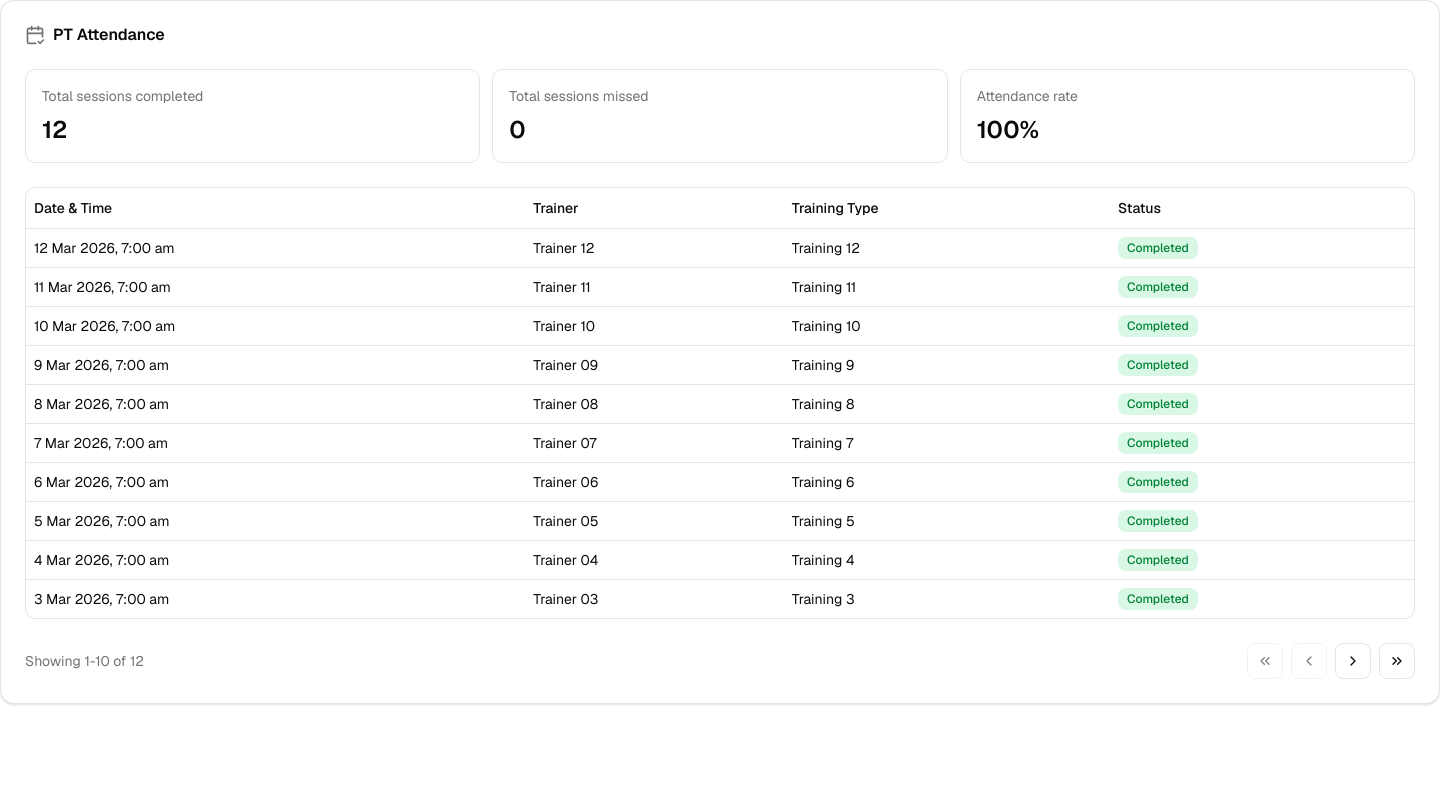
Test case: MemberPtAttendance › paginates PT attendance results 10 at a time
Expected: the text "Trainer 01" is not shown
Click the button named "Go to next page".
click(1353, 660)  # box left=1335, top=642, right=1371, bottom=678
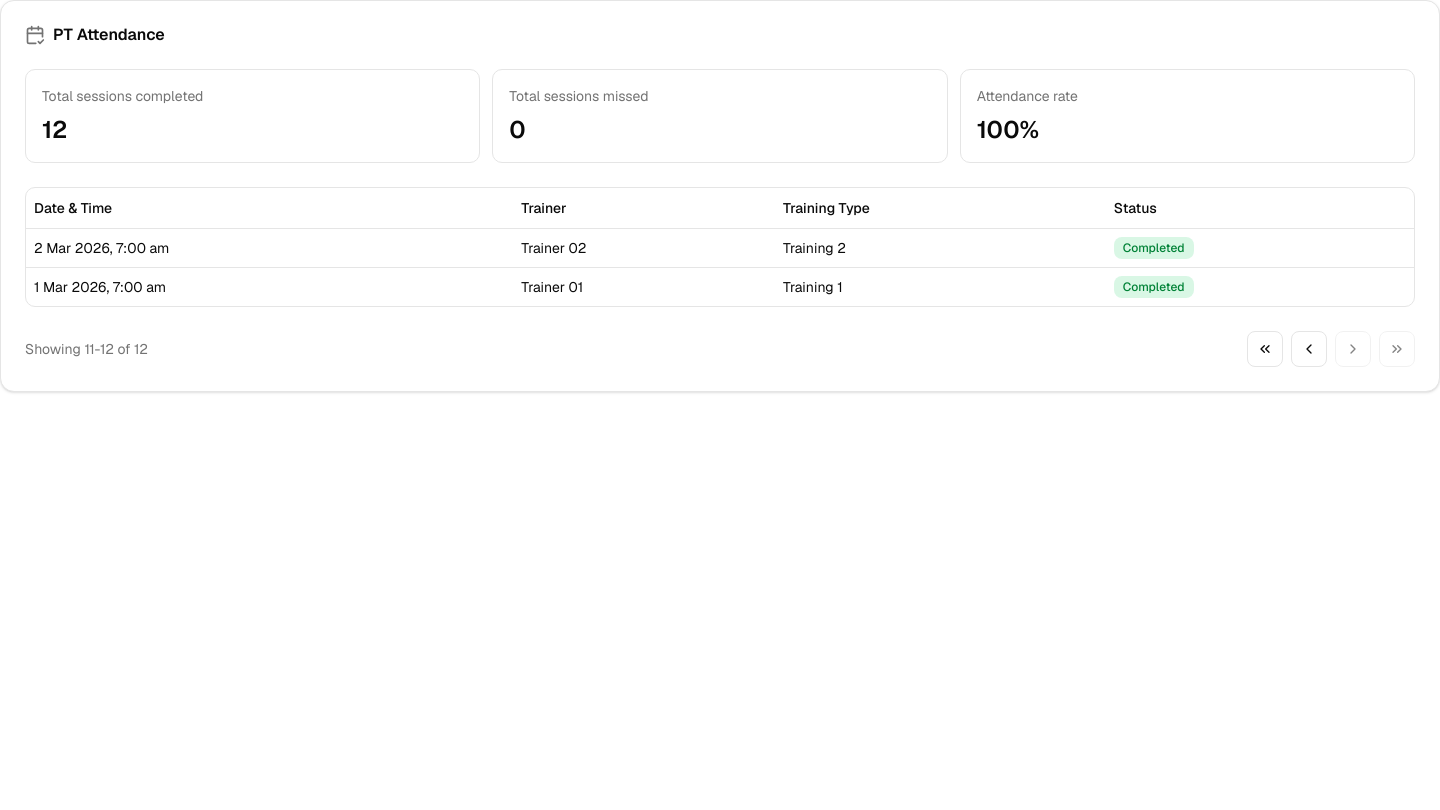
Now the text "Showing 11-12 of 12" is shown, box left=25, top=338, right=148, bottom=358
Now the text "Trainer 02" is shown, box left=513, top=228, right=775, bottom=267
Now the text "Trainer 01" is shown, box left=513, top=267, right=775, bottom=306
